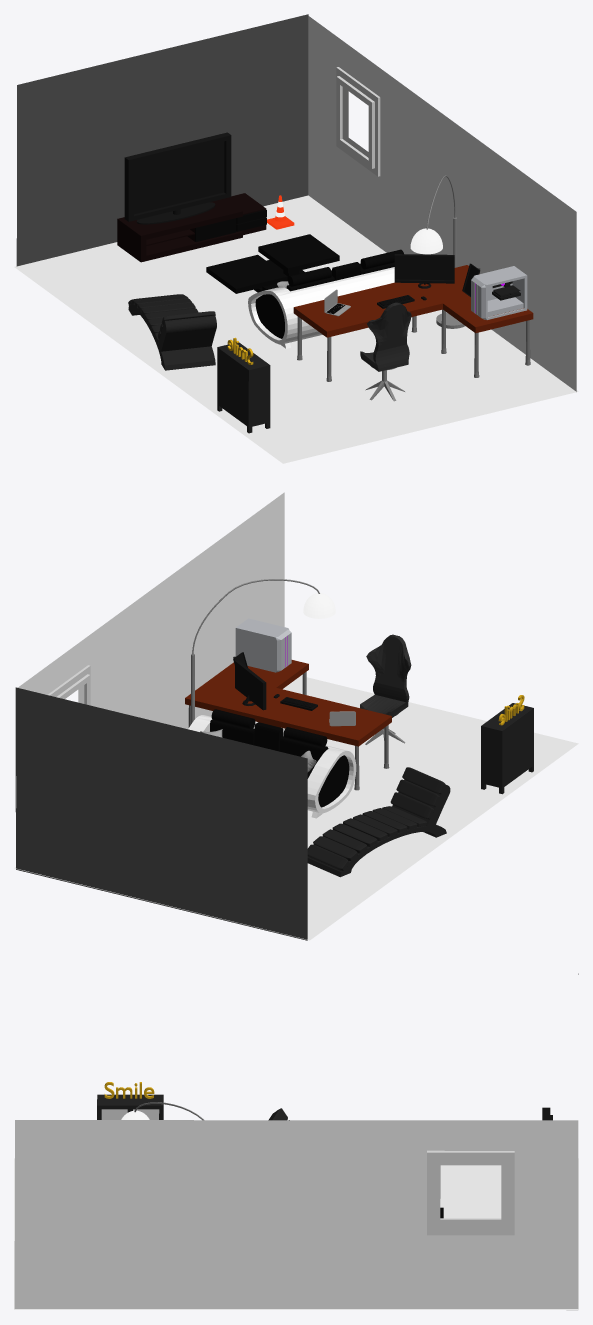
File: home2.glb
The picture shows the model from 3 angles, top to bottom: view 1: azimuth 30°, elevation 25°; view 2: azimuth 150°, elevation 25°; view 3: azimuth 270°, elevation 25°; orthographic projection. The views are drawn at different scales.
Visible parts, largest first — view 1: Plane.006, Plane.004, Plane.005, Cube.005, Cube.033, Cube, Cube.241, Cylinder.008, Cube.256, Cube.269, Cube.270, Cube.007 (+7 smaller); view 2: Plane.004, Plane.005, Plane.006, Cube.033, Cube.241, Cube.270, Cube.022, Cylinder.008, Cube.256, Cube.031, Cylinder.011, Cube.269 (+8 smaller); view 3: Plane.005, Cube.269, Plane.006, Cube.241, smile.
Boxes of the visible parts, x1,y1,x2,y2 form: Plane.006: [14, 195, 578, 463]; Plane.004: [16, 14, 308, 266]; Plane.005: [308, 16, 576, 391]; Cube.005: [124, 132, 231, 221]; Cube.033: [293, 265, 533, 337]; Cube: [117, 193, 266, 262]; Cube.241: [217, 342, 270, 433]; Cylinder.008: [248, 267, 394, 344]; Cube.256: [128, 304, 216, 370]; Cube.269: [336, 67, 380, 176]; Cube.270: [360, 302, 411, 371]; Cube.007: [258, 234, 339, 273]; Plane.004: [15, 687, 307, 940]; Plane.005: [16, 492, 284, 807]; Plane.006: [14, 676, 578, 940]; Cube.033: [185, 660, 391, 746]; Cube.241: [481, 703, 533, 794]; Cube.270: [360, 634, 411, 717]; Cube.022: [235, 618, 291, 672]; Cylinder.008: [188, 715, 356, 813]; Cube.256: [307, 779, 450, 877]; Cube.031: [235, 660, 266, 710]; Cylinder.011: [318, 755, 349, 807]; Cube.269: [48, 665, 90, 705]; Plane.005: [14, 1120, 578, 1310]; Cube.269: [427, 1150, 514, 1235]; Plane.006: [14, 1158, 578, 1309]; Cube.241: [97, 1094, 163, 1119]; smile: [104, 1082, 154, 1098].
Bounding box in the file's own units: 5.14 × 3.01 × 8.05.
